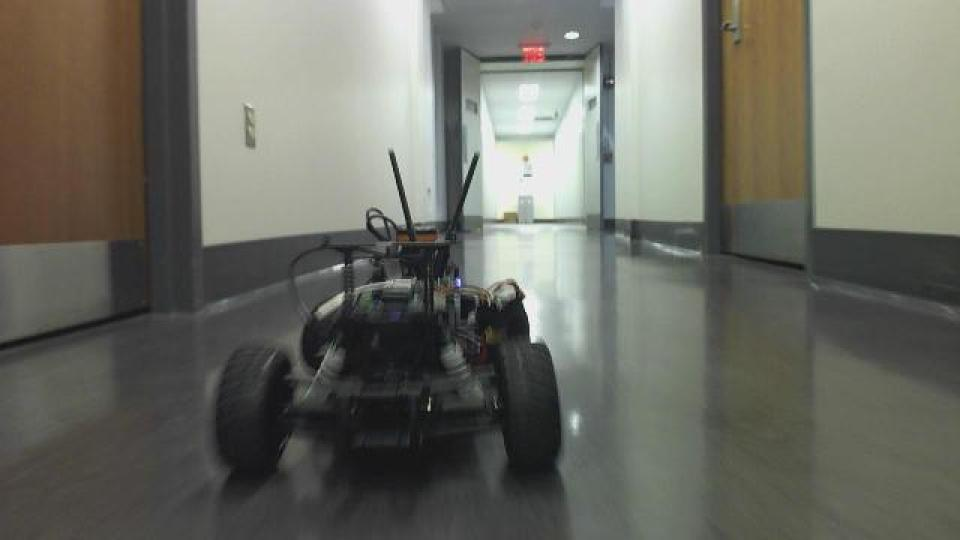car: (208, 146, 566, 480)
